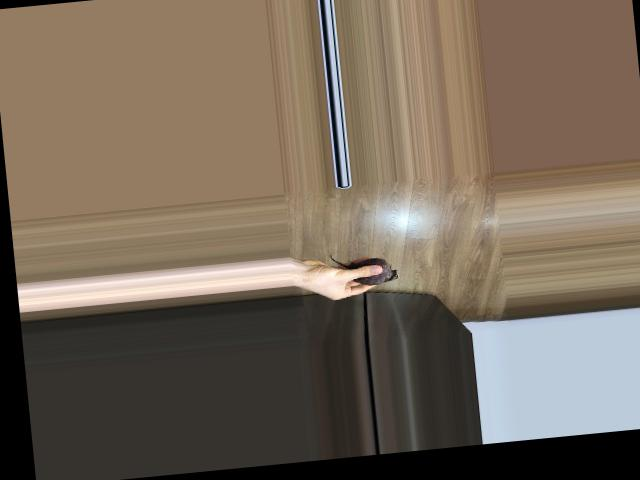beet: (330, 247, 399, 288)
